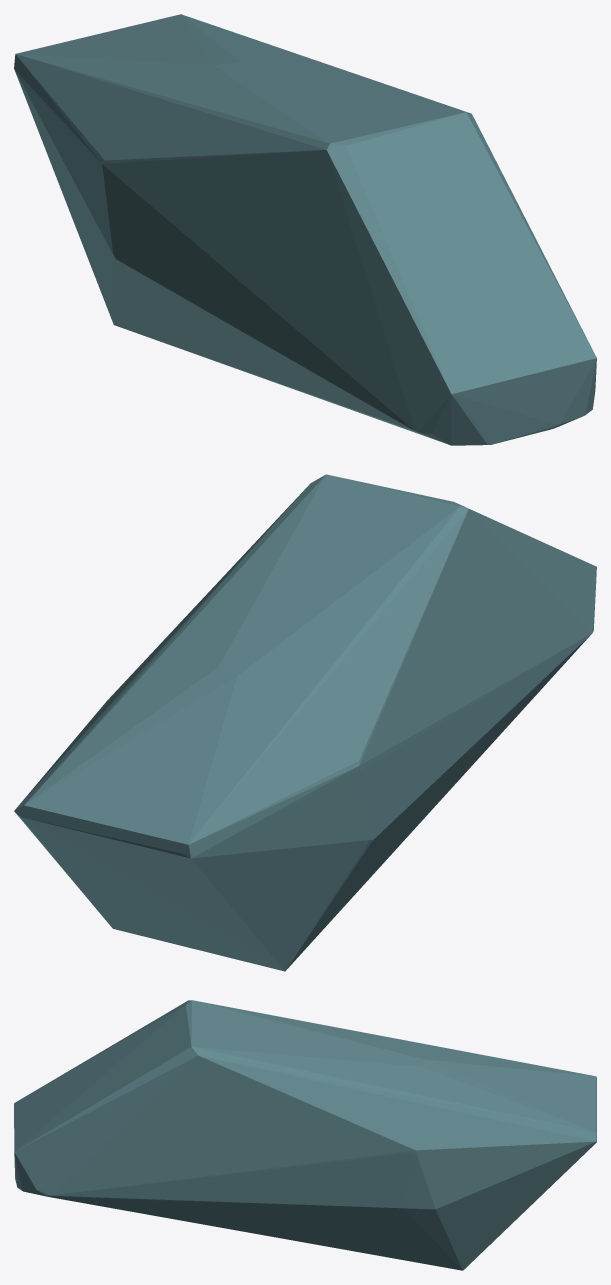
The model's file is handTruck_convertible_steel_orange_a01.glb.
3 renders of one model, top to bottom at view 1: azimuth 30°, elevation 25°; view 2: azimuth 150°, elevation 25°; view 3: azimuth 270°, elevation 25°, orthographic. The views are drawn at different scales.
Visible parts, largest first — view 1: geometry_0; view 2: geometry_0; view 3: geometry_0.
Part boxes in pixels (x1,y1,x2,y2): geometry_0: (14, 14, 596, 445); geometry_0: (14, 474, 596, 971); geometry_0: (14, 1000, 596, 1270).
Size of the model in its own units: 0.1684 by 0.1999 by 0.4797.
